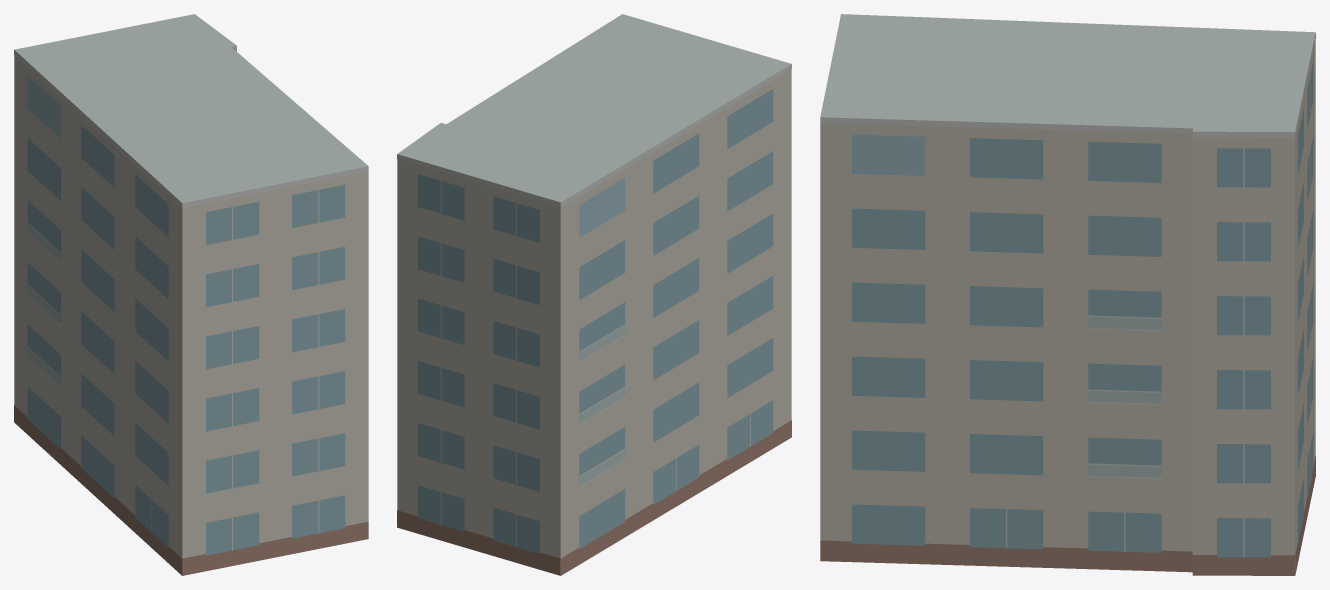
Rendered from survey-upis-32584211.glb.
The picture shows the model from 3 angles, left to right: view 1: azimuth 30°, elevation 25°; view 2: azimuth 150°, elevation 25°; view 3: azimuth 270°, elevation 25°; orthographic projection. The views are drawn at different scales.
Visible parts, largest first — view 1: survey-upis-32584211.tmp; view 2: survey-upis-32584211.tmp; view 3: survey-upis-32584211.tmp.
Boxes of the visible parts, x1=… form: survey-upis-32584211.tmp: x1=14, y1=14, x2=368, y2=575; survey-upis-32584211.tmp: x1=397, y1=14, x2=791, y2=575; survey-upis-32584211.tmp: x1=820, y1=14, x2=1315, y2=575.
Size of the model in its own units: 10.45 by 18.3 by 18.53.
